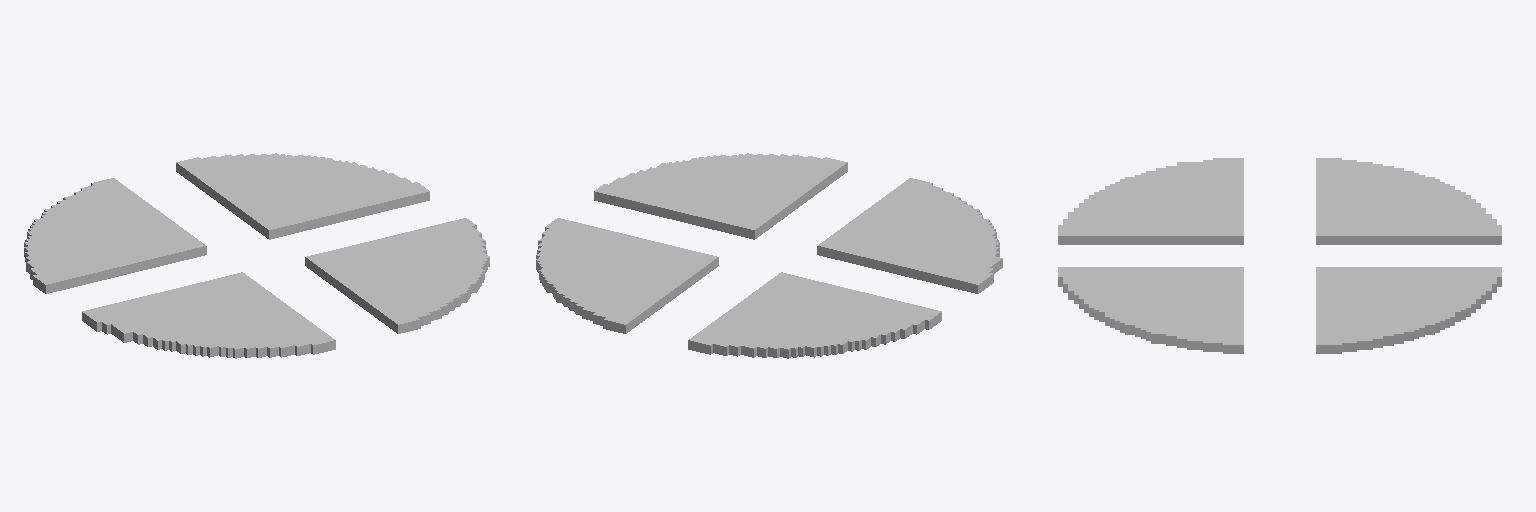
The model's file is 2 лвл-1.obj.
The picture shows the model from 3 angles: view 1: azimuth 30°, elevation 25°; view 2: azimuth 150°, elevation 25°; view 3: azimuth 270°, elevation 25°; orthographic projection.
Visible parts, largest first — view 1: object 1; view 2: object 1; view 3: object 1.
Boxes of the visible parts, box(x1,y1,x2,y2) form: object 1: box(24, 153, 489, 358); object 1: box(536, 153, 1002, 358); object 1: box(1058, 158, 1501, 353).
Size of the model in its own units: 8.6 by 0.2 by 8.6.